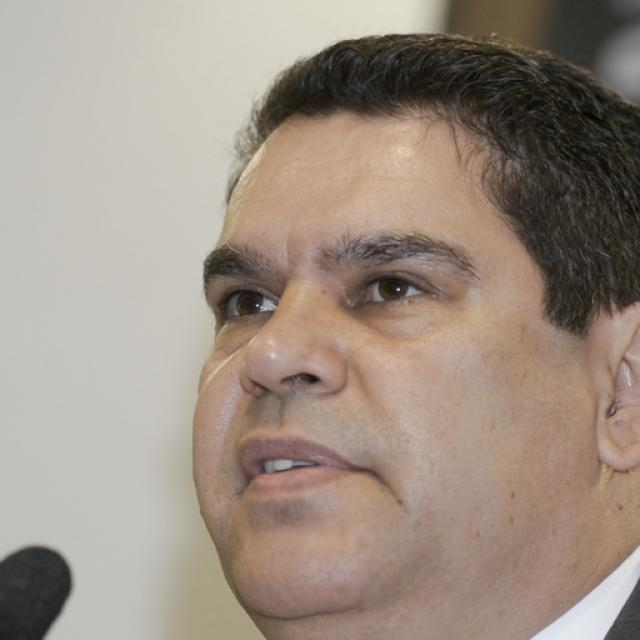disgust: (190, 102, 596, 640)
